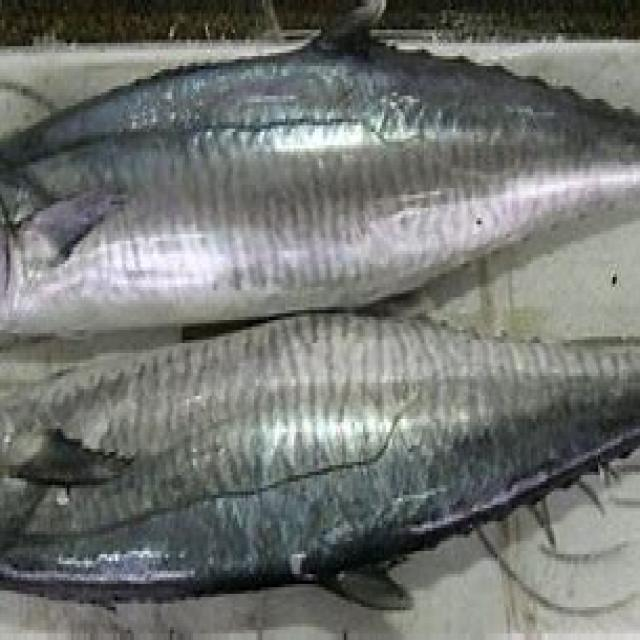seer: (0, 0, 638, 342), (0, 311, 638, 611)
